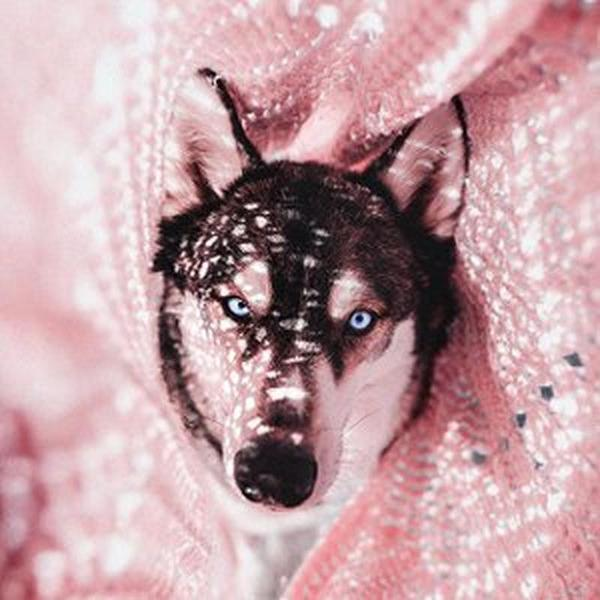allqu: (123, 47, 501, 538)
